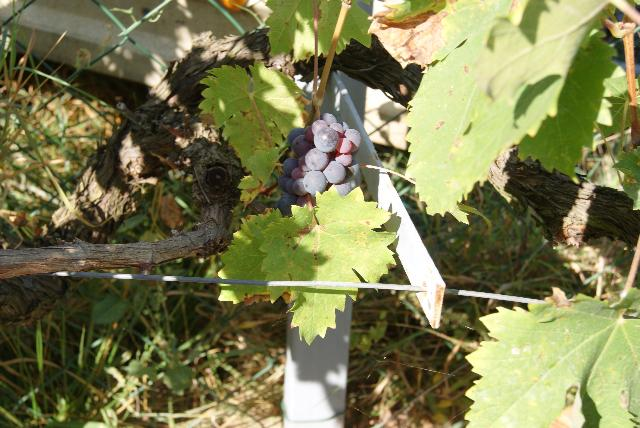grapes: (276, 114, 361, 215)
